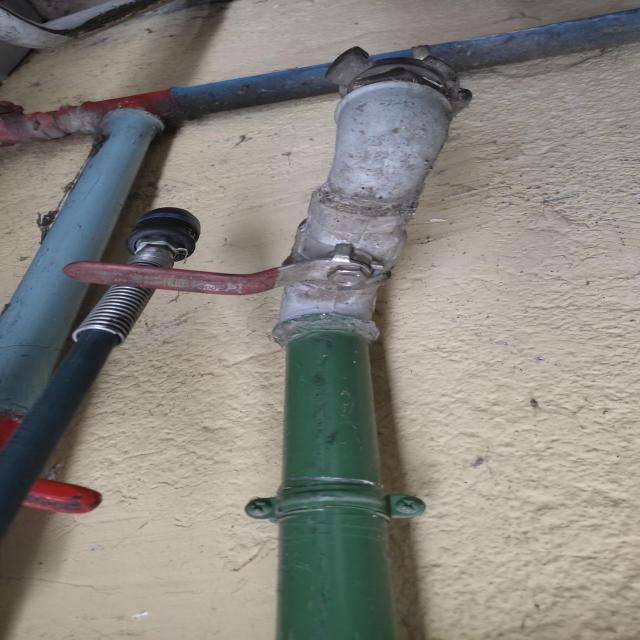closed_valve: (58, 206, 413, 314)
